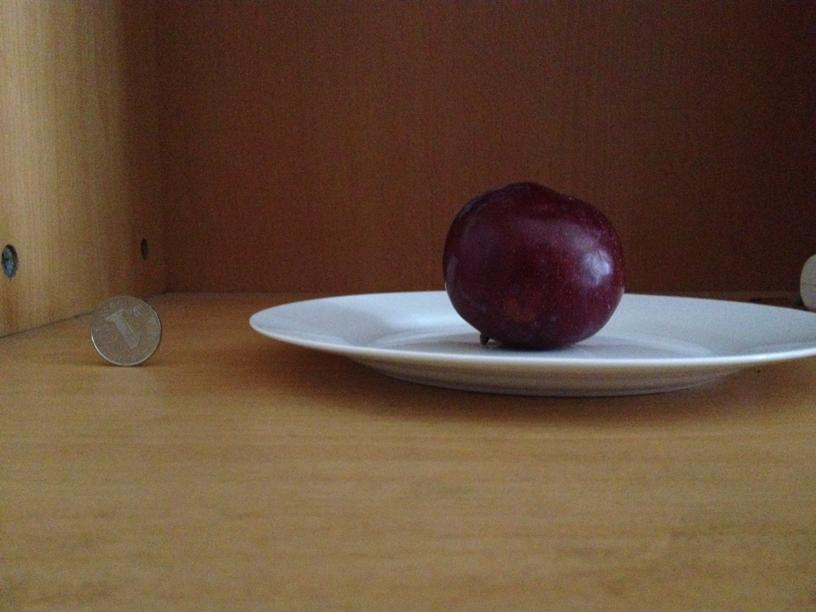coin: (85, 296, 162, 367)
plum: (441, 185, 624, 345)
